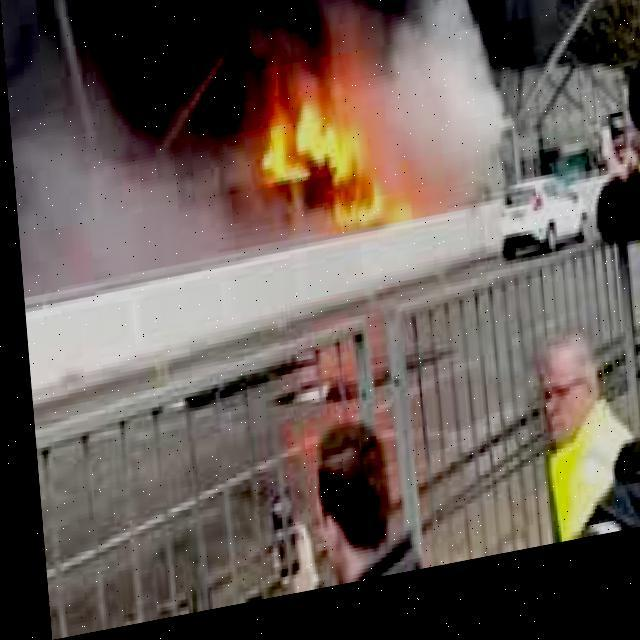Fire: (240, 25, 434, 270)
